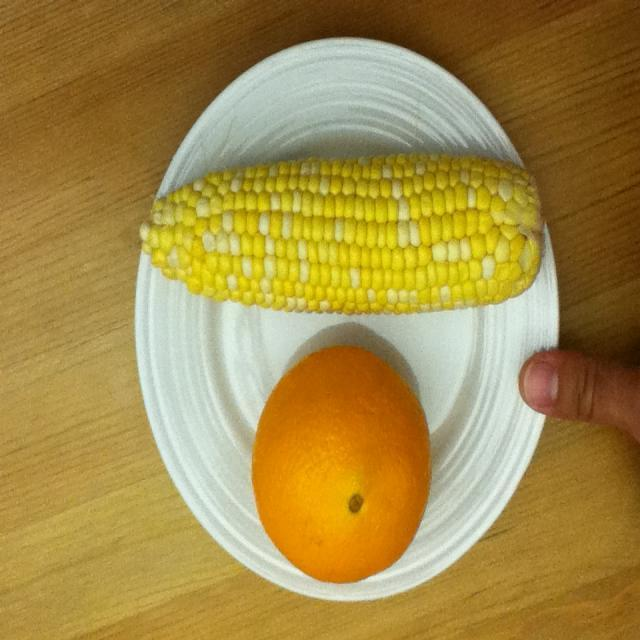Corn: (125, 146, 562, 324)
Orange: (242, 337, 451, 587)
